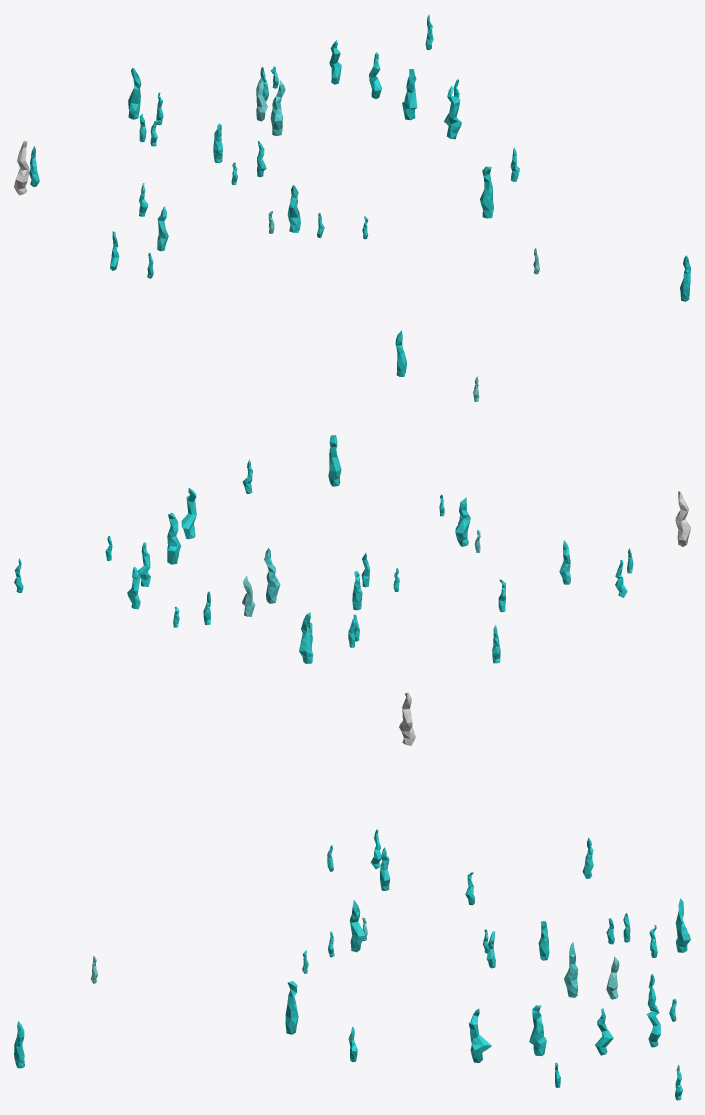
File: ice.fbx
3 renders of one model, top to bottom at view 1: azimuth 30°, elevation 25°; view 2: azimuth 150°, elevation 25°; view 3: azimuth 270°, elevation 25°, orthographic. The views are drawn at different scales.
Visible parts, largest first — view 1: null3; view 2: null3; view 3: null3.
Boxes of the visible parts, x1,y1,x2,y2 form: null3: (14,14,690,301); null3: (14,330,690,663); null3: (14,692,690,1100).
Size of the model in its own units: 88.98 by 21.46 by 92.38.
